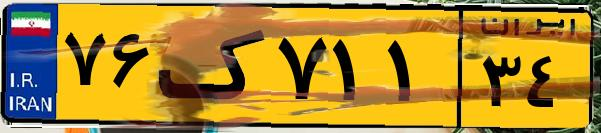1: (385, 28, 445, 110), (330, 28, 385, 110)
3: (475, 38, 525, 113)
4: (525, 38, 570, 115)
6: (110, 28, 158, 98)
7: (270, 28, 330, 110), (57, 26, 110, 100)
ک: (158, 12, 270, 120)
